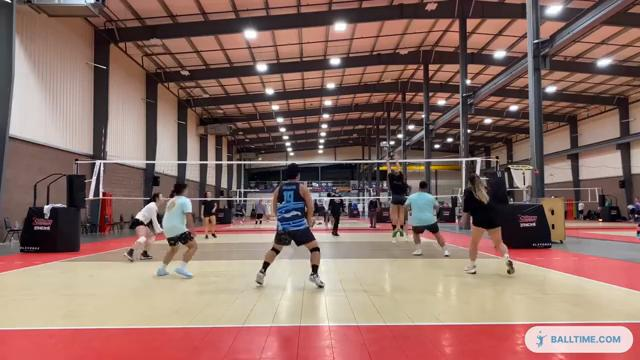Block: (383, 151, 408, 243)
Player: (255, 163, 323, 287), (461, 174, 514, 273), (157, 183, 196, 277), (404, 180, 449, 256), (124, 193, 163, 261), (201, 191, 216, 238), (329, 194, 345, 237)
ball: (381, 141, 389, 150)
